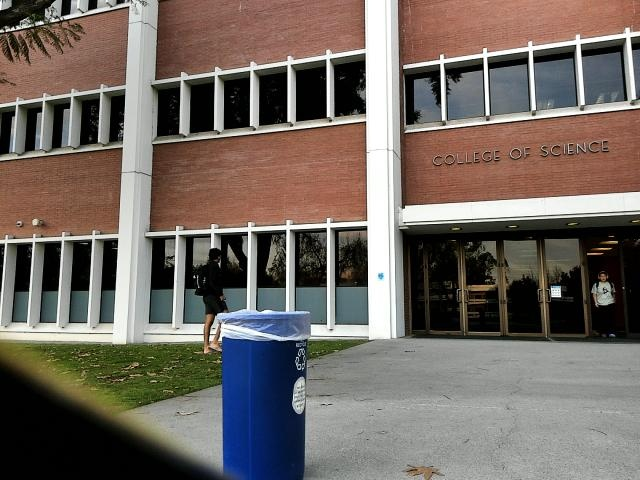trashcan_open: (213, 312, 315, 480)
